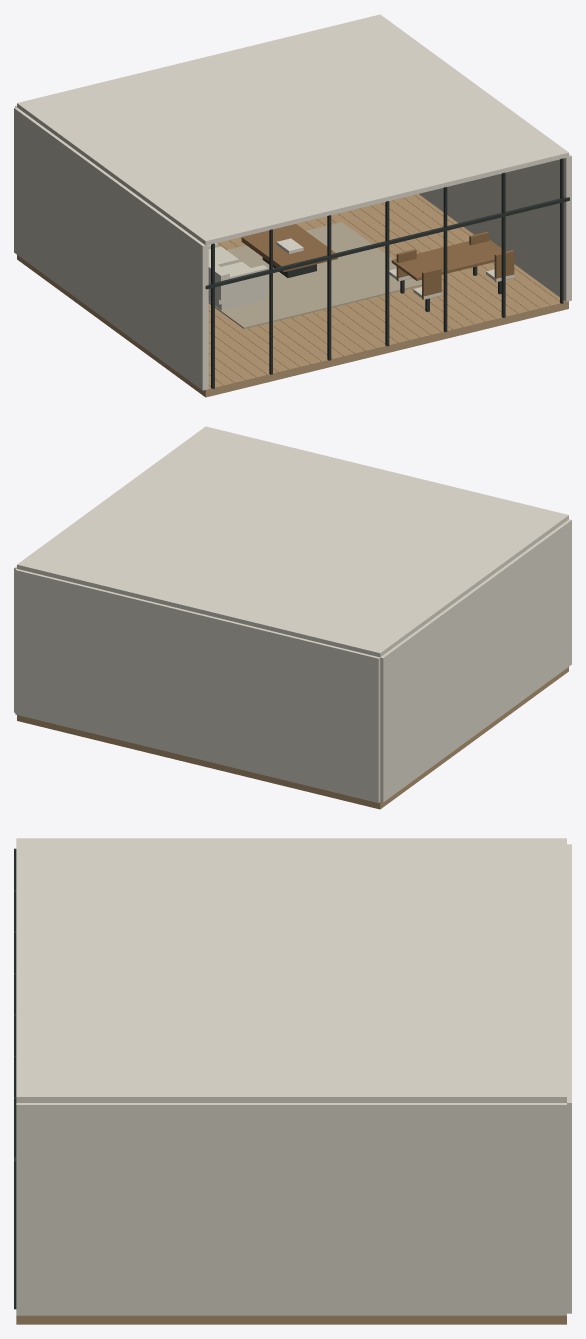
Rendered from living.glb.
The picture shows the model from 3 angles, top to bottom: view 1: azimuth 30°, elevation 25°; view 2: azimuth 150°, elevation 25°; view 3: azimuth 270°, elevation 25°; orthographic projection. The views are drawn at different scales.
Bounding box in the file's own units: 10.16 × 4.11 × 9.12.
